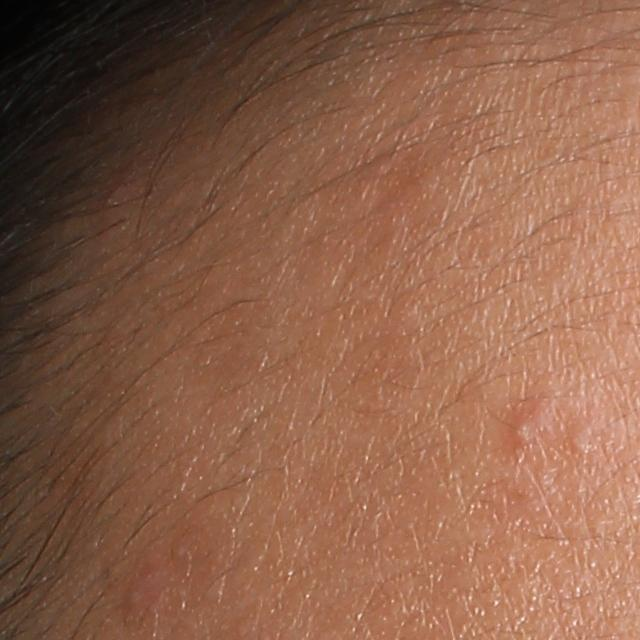papule: (505, 408, 545, 450)
